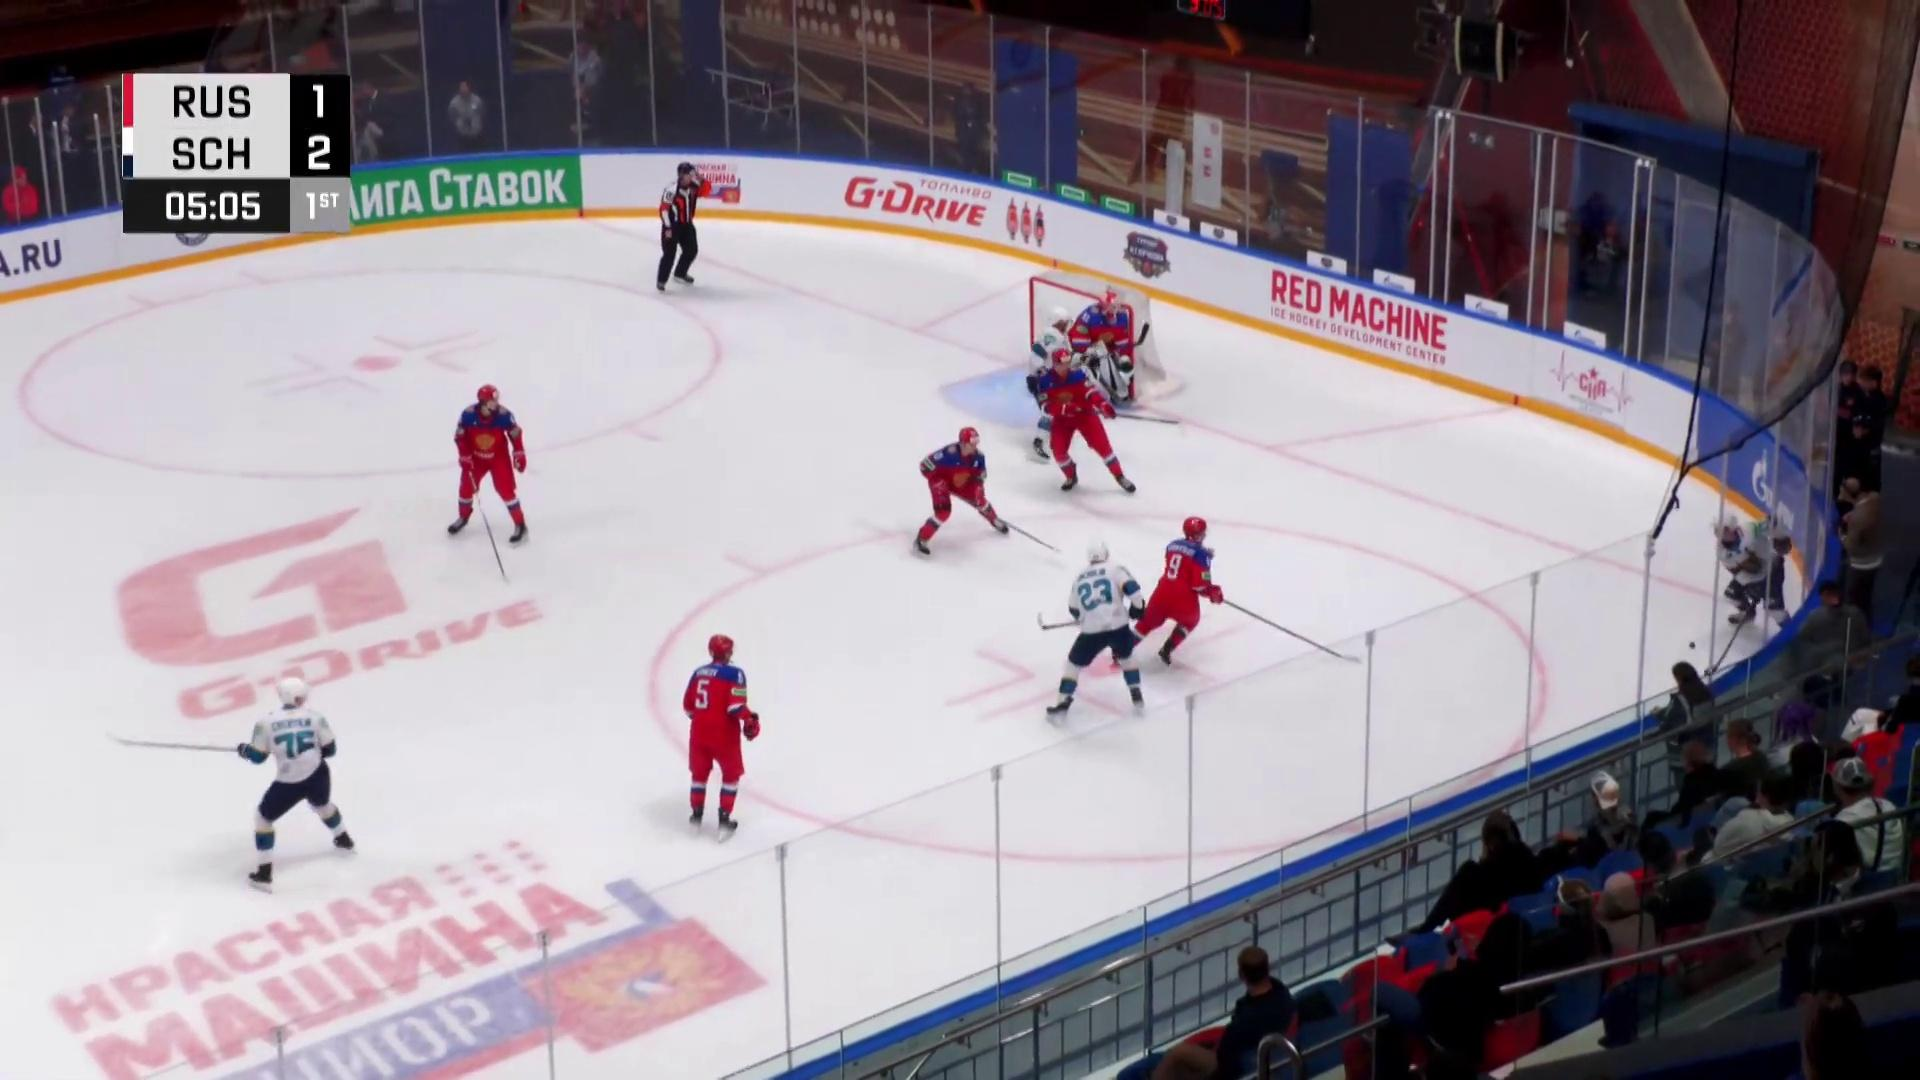ball: (1688, 641, 1697, 650)
